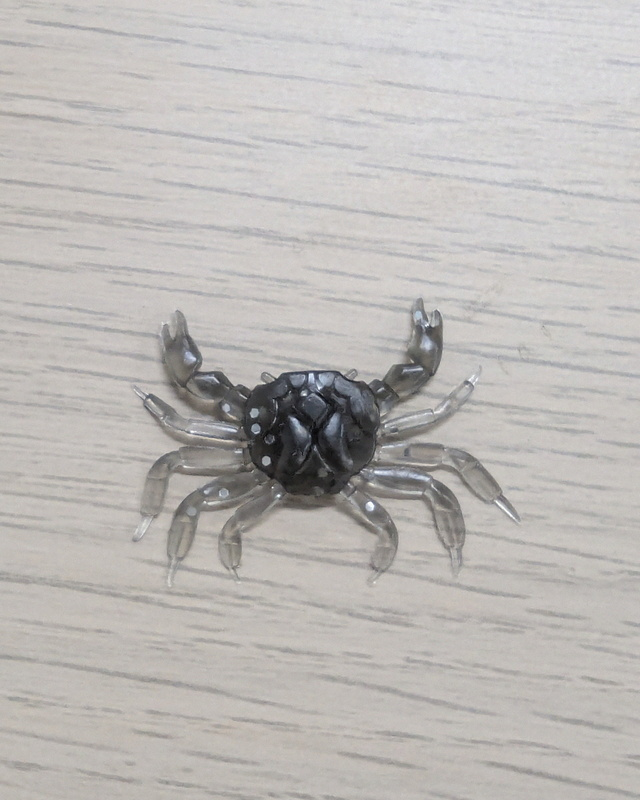crab1: (128, 295, 524, 595)
